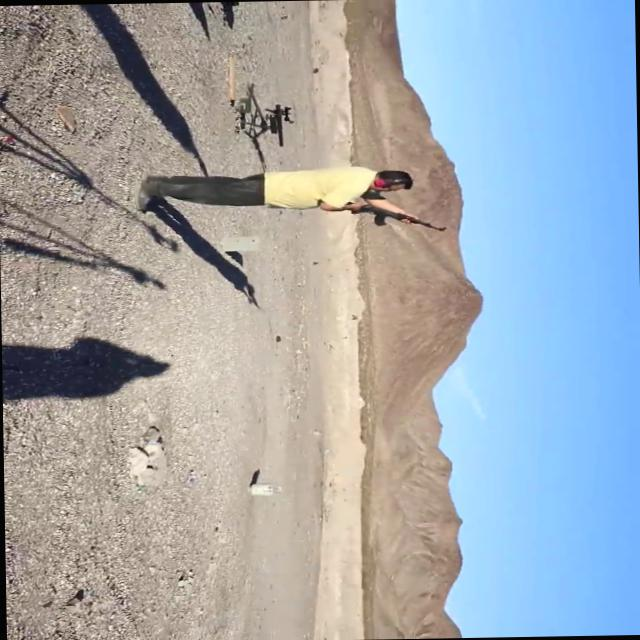long weapon: (330, 196, 460, 246), (226, 94, 310, 151)
